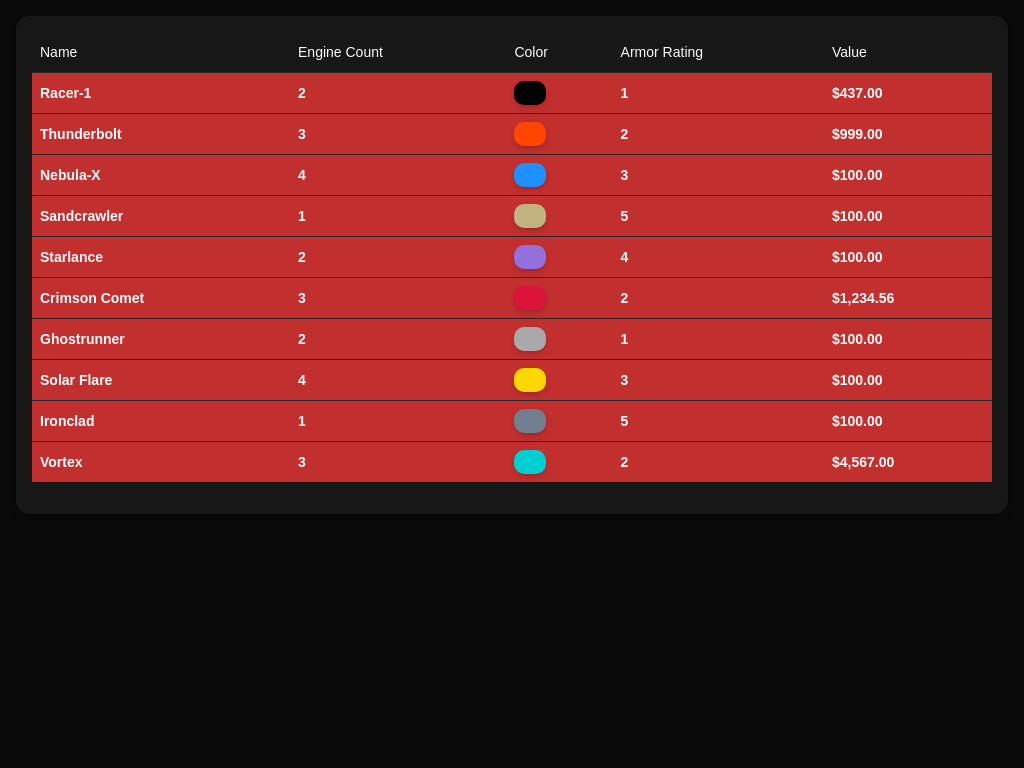
Test: Garage table › should show the update and delete buttons when a pod is selected
The image size is (1024, 768).
Expected: the button "update" is not shown
Expected: the button "delete" is not shown
Click the row "Racer-1 2 1 $437.00" at (512, 92), box [32,72,992,113]
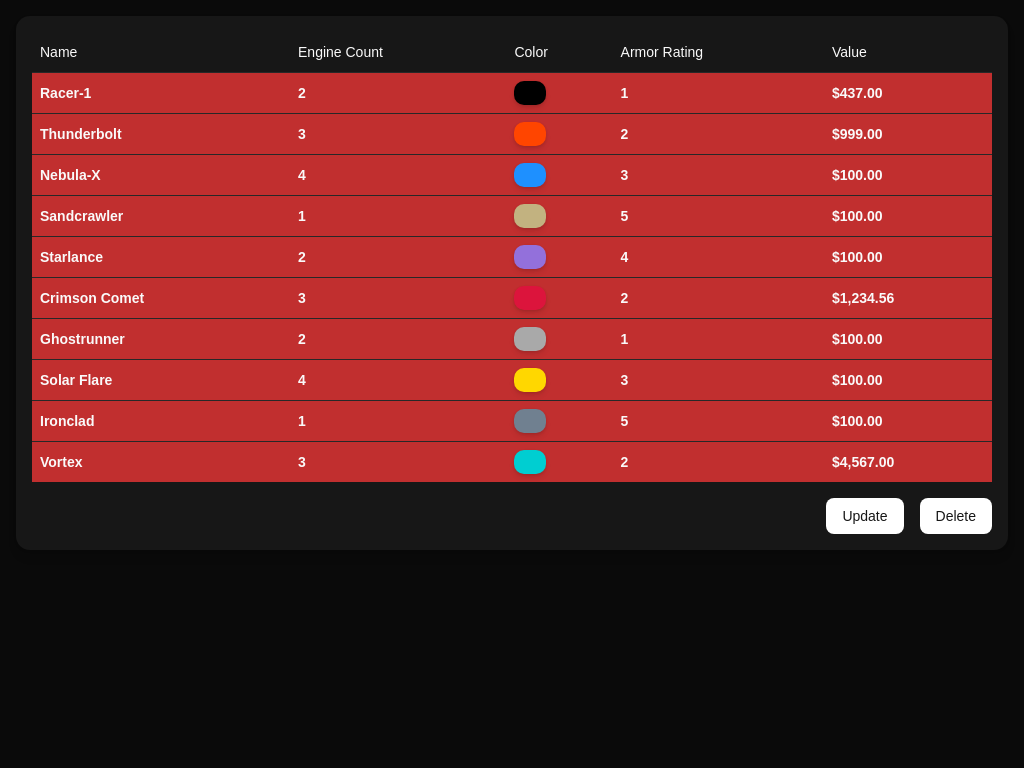
Now the button "Update" is shown, box [826,498,904,534]
Now the button "Delete" is shown, box [920,498,992,534]
